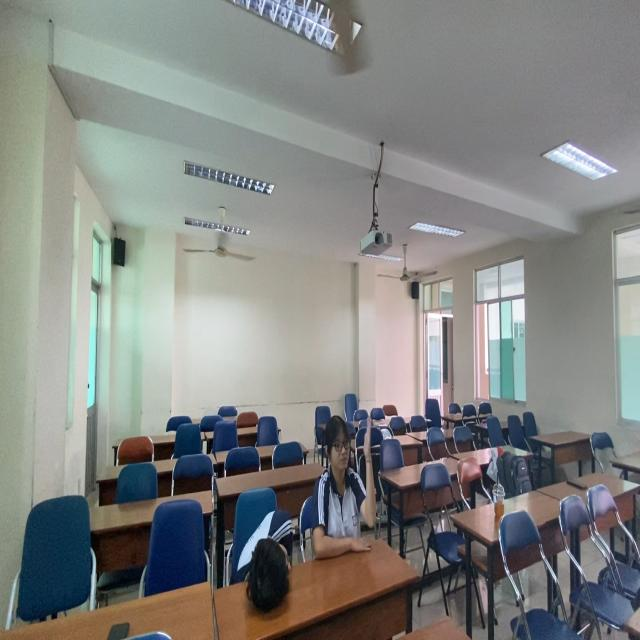raise_hand: (314, 407, 381, 563)
sleep: (220, 487, 307, 623)
